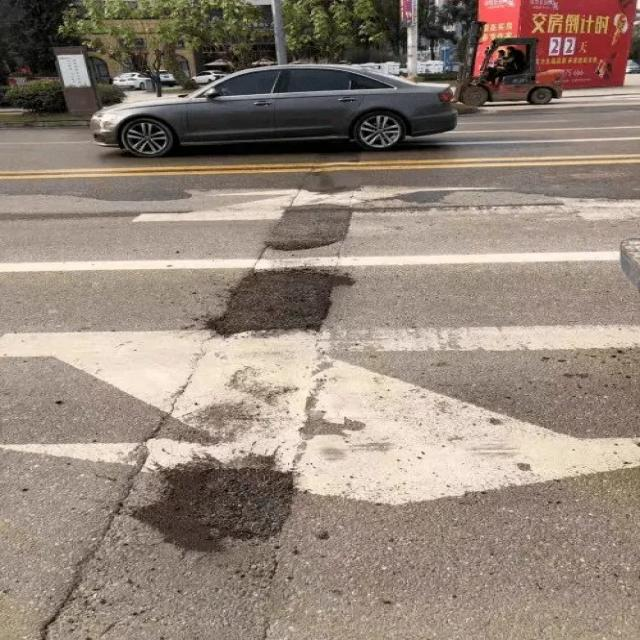Pothole: (156, 459, 310, 549), (206, 264, 352, 338), (268, 196, 352, 252)
